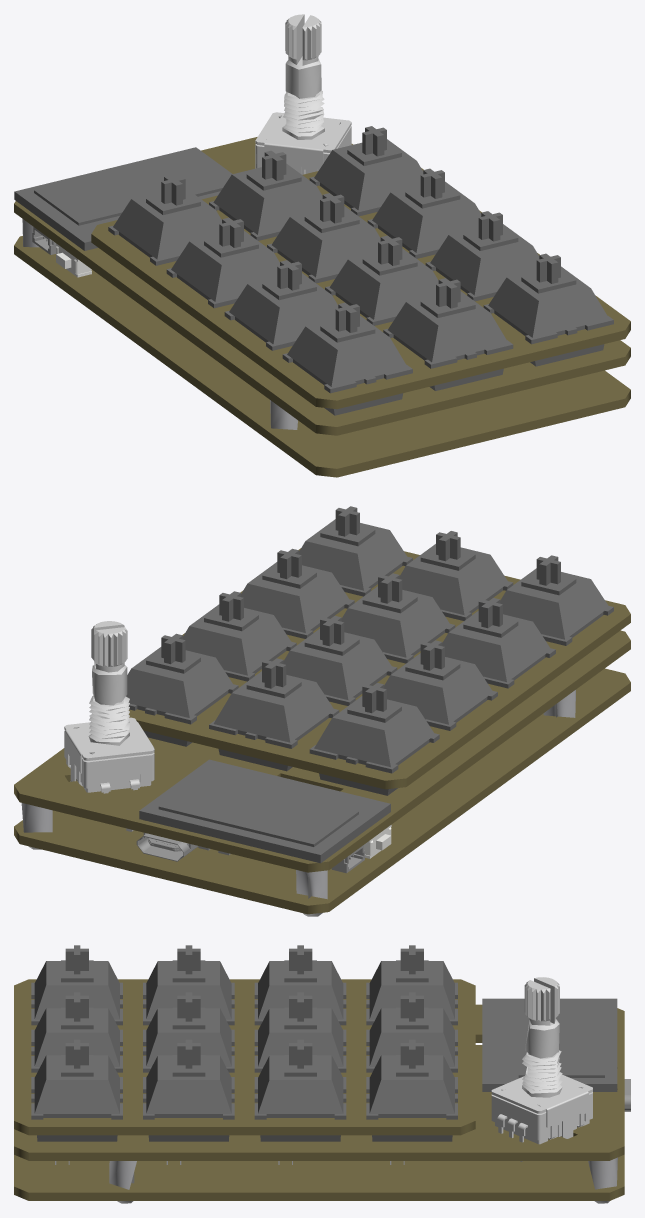
File: ada-5128.glb
3 renders of one model, top to bottom at view 1: azimuth 30°, elevation 25°; view 2: azimuth 150°, elevation 25°; view 3: azimuth 270°, elevation 25°, orthographic. The views are drawn at different scales.
Visible parts, largest first — view 1: 0.16666666666666666_0.16666666666666666_0.16666666666666666_, 0.16666666666666666_0.16666666666666666_0.08333333333333333_, 0.75_0.75_0.75_0.85, 0.5833333333333334_0.5833333333333334_0.5833333333333334_0.8; view 2: 0.16666666666666666_0.16666666666666666_0.16666666666666666_, 0.16666666666666666_0.16666666666666666_0.08333333333333333_, 0.75_0.75_0.75_0.85, 0.5833333333333334_0.5833333333333334_0.5833333333333334_0.8, 0.3333333333333333_0.3333333333333333_0.3333333333333333_0; view 3: 0.16666666666666666_0.16666666666666666_0.16666666666666666_, 0.16666666666666666_0.16666666666666666_0.08333333333333333_, 0.75_0.75_0.75_0.85, 0.5833333333333334_0.5833333333333334_0.5833333333333334_0.8.
Boxes of the visible parts, <box> form: 0.16666666666666666_0.16666666666666666_0.16666666666666666_: <box>14,126,613,415</box>; 0.16666666666666666_0.16666666666666666_0.08333333333333333_: <box>14,137,630,477</box>; 0.75_0.75_0.75_0.85: <box>255,14,351,174</box>; 0.5833333333333334_0.5833333333333334_0.5833333333333334_0.8: <box>22,219,297,429</box>; 0.16666666666666666_0.16666666666666666_0.16666666666666666_: <box>126,506,613,863</box>; 0.16666666666666666_0.16666666666666666_0.08333333333333333_: <box>14,548,630,914</box>; 0.75_0.75_0.75_0.85: <box>64,621,154,793</box>; 0.5833333333333334_0.5833333333333334_0.5833333333333334_0.8: <box>21,690,575,899</box>; 0.3333333333333333_0.3333333333333333_0.3333333333333333_0: <box>29,703,557,916</box>; 0.16666666666666666_0.16666666666666666_0.16666666666666666_: <box>31,945,617,1141</box>; 0.16666666666666666_0.16666666666666666_0.08333333333333333_: <box>14,979,624,1200</box>; 0.75_0.75_0.75_0.85: <box>491,977,592,1161</box>; 0.5833333333333334_0.5833333333333334_0.5833333333333334_0.8: <box>55,1157,617,1189</box>.
Size of the model in its own units: 6.08 by 3.73 by 10.52.
